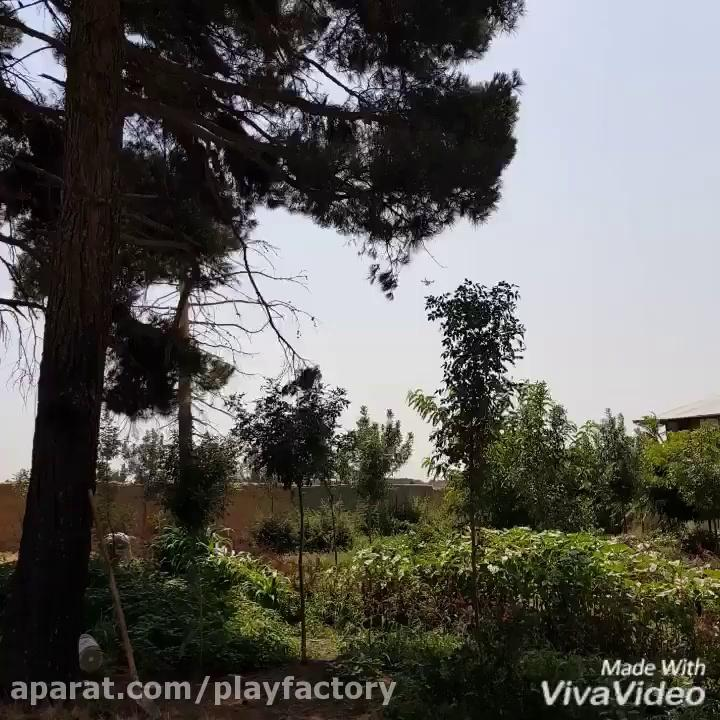drone: (416, 268, 439, 289)
